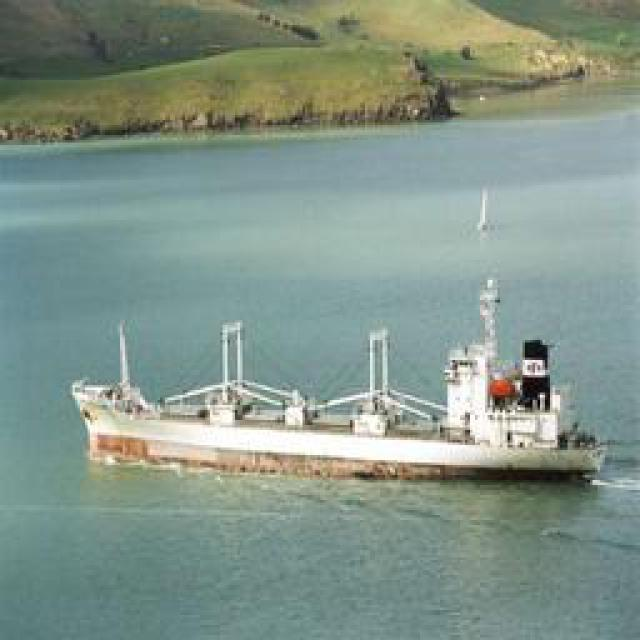Ship: (63, 304, 611, 487)
